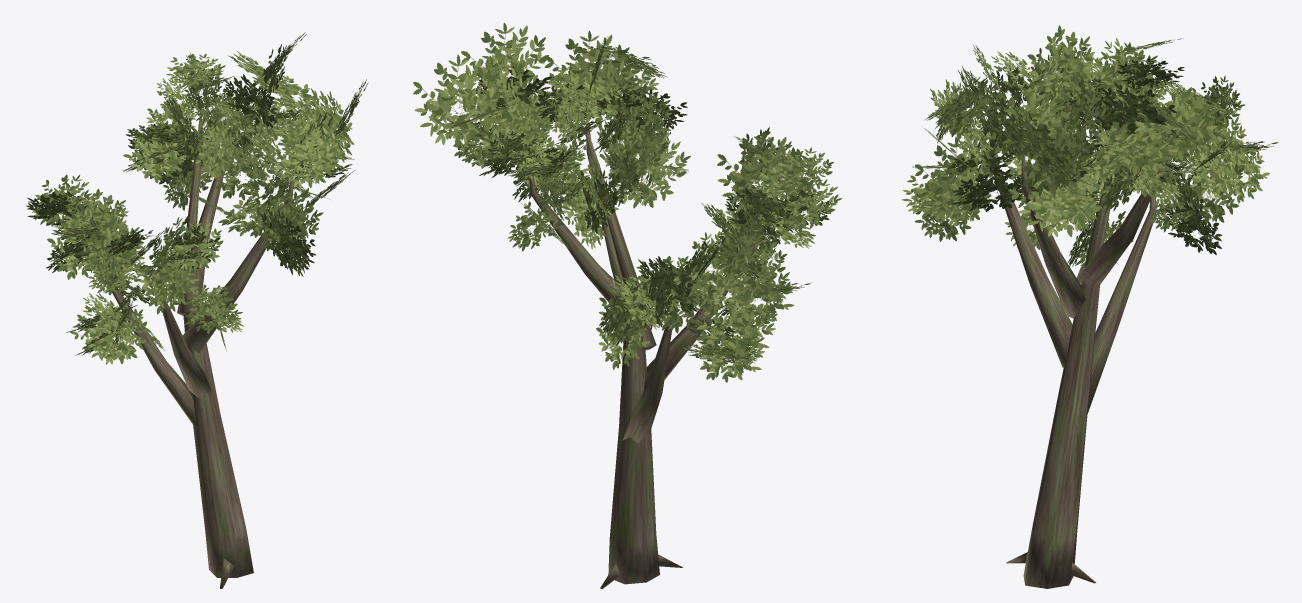
File: tree-oak-3_lod1.glb
3 renders of one model, left to right at view 1: azimuth 30°, elevation 25°; view 2: azimuth 150°, elevation 25°; view 3: azimuth 270°, elevation 25°, orthographic. The views are drawn at different scales.
Parts seen in each view (by area): view 1: Broadleaf sprigs, Trunk and branches; view 2: Broadleaf sprigs, Trunk and branches; view 3: Broadleaf sprigs, Trunk and branches.
Part boxes in pixels (bbox=[...]): Broadleaf sprigs: bbox=[26, 32, 368, 364]; Trunk and branches: bbox=[111, 119, 293, 588]; Broadleaf sprigs: bbox=[413, 23, 841, 382]; Trunk and branches: bbox=[529, 116, 762, 588]; Broadleaf sprigs: bbox=[902, 25, 1278, 266]; Trunk and branches: bbox=[993, 97, 1164, 588].
Size of the model in its own units: 5 by 7 by 4.51.
2 materials, 2 textured.
